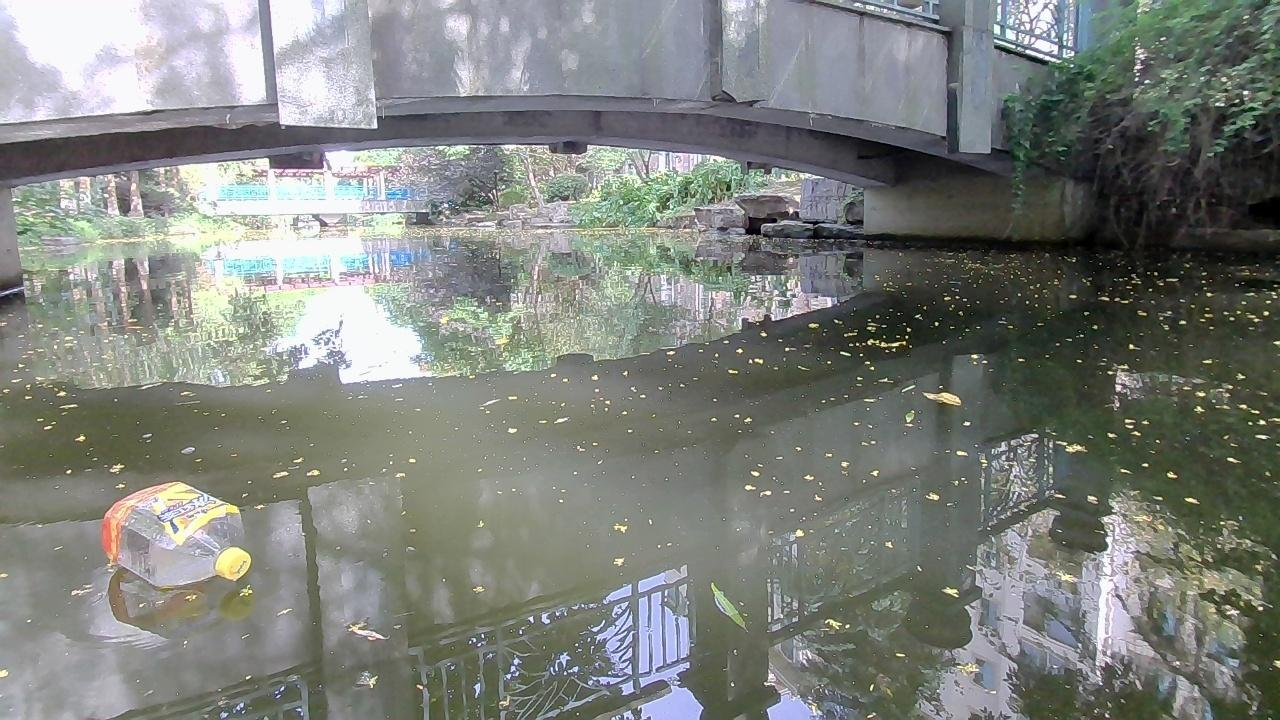bottle: (98, 481, 253, 584)
